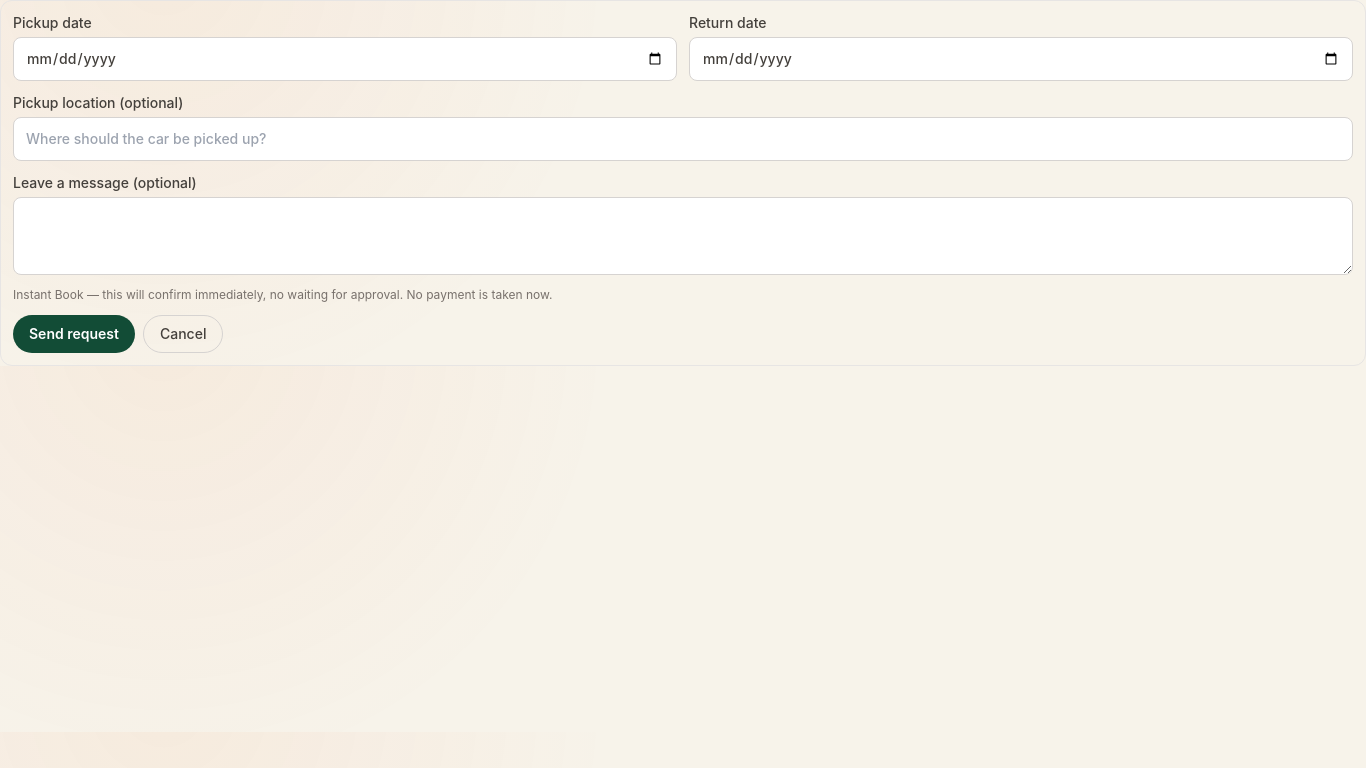
BookingRequestSection (car listing) › shows a confirmed message, not a pending 'request sent' message, when Instant Book confirms immediately
This screenshot has width=1366, height=768.
In the date field labelled "Pickup date": (345, 59) [13, 37, 677, 81], type "2026-01-01"
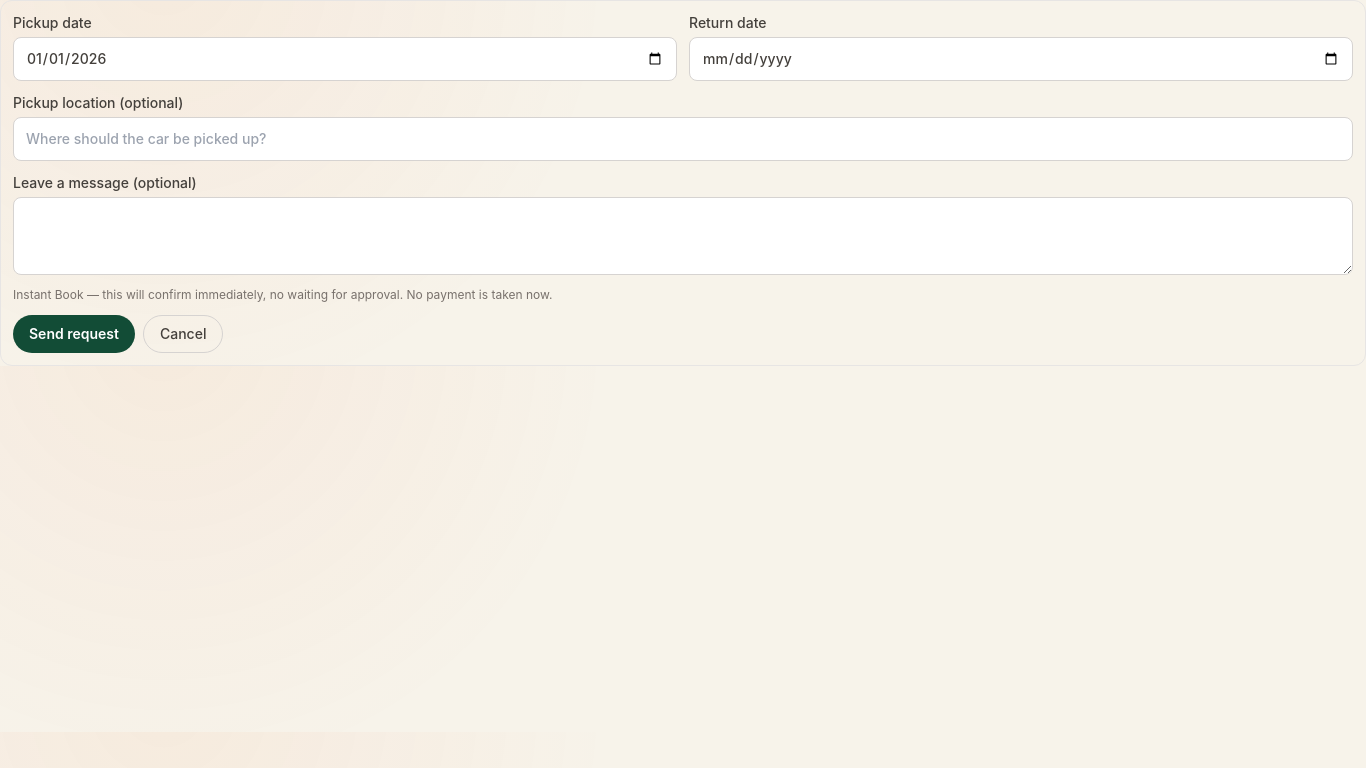
In the date field labelled "Return date": (1021, 59) [689, 37, 1353, 81], type "2026-01-03"
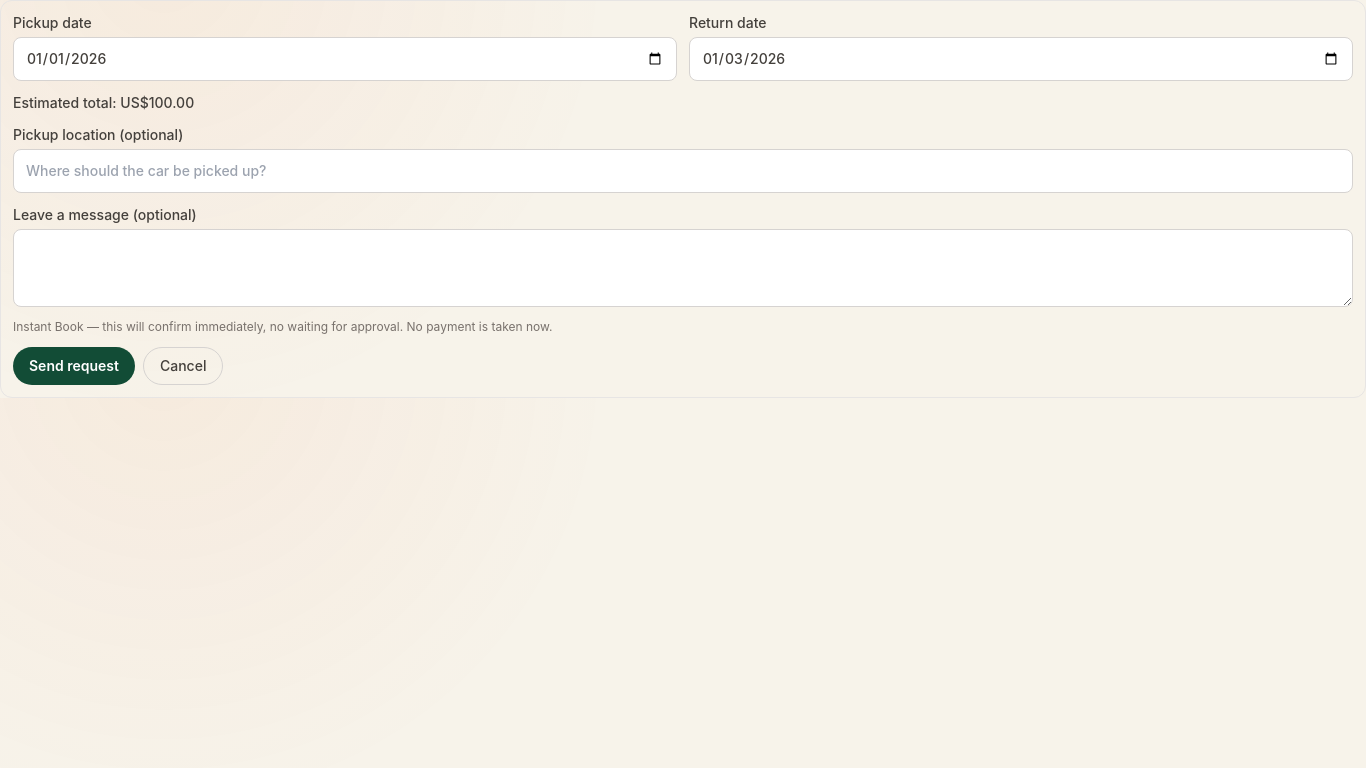
Click the button "Send request": (74, 366) [13, 347, 135, 385]
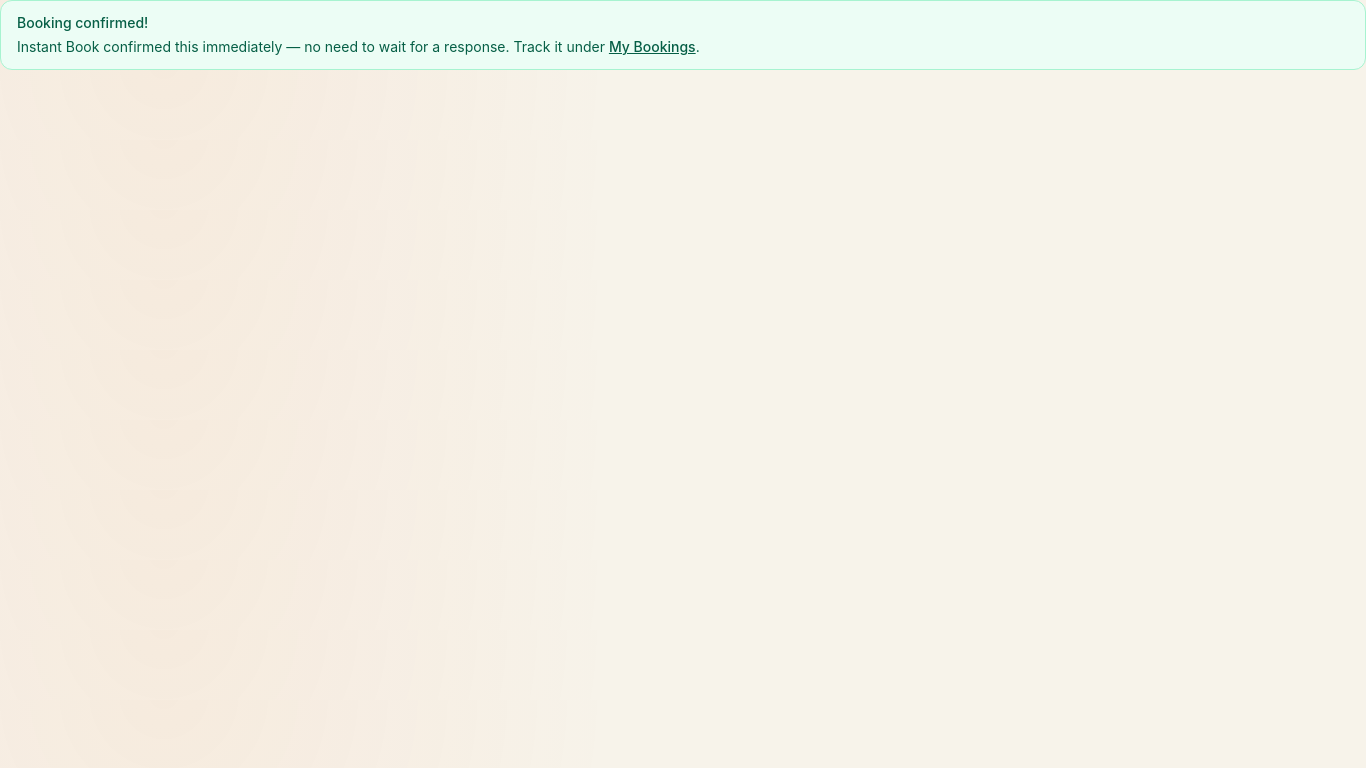
expect the text "Booking confirmed!" is shown: met, box [17, 14, 148, 31]
